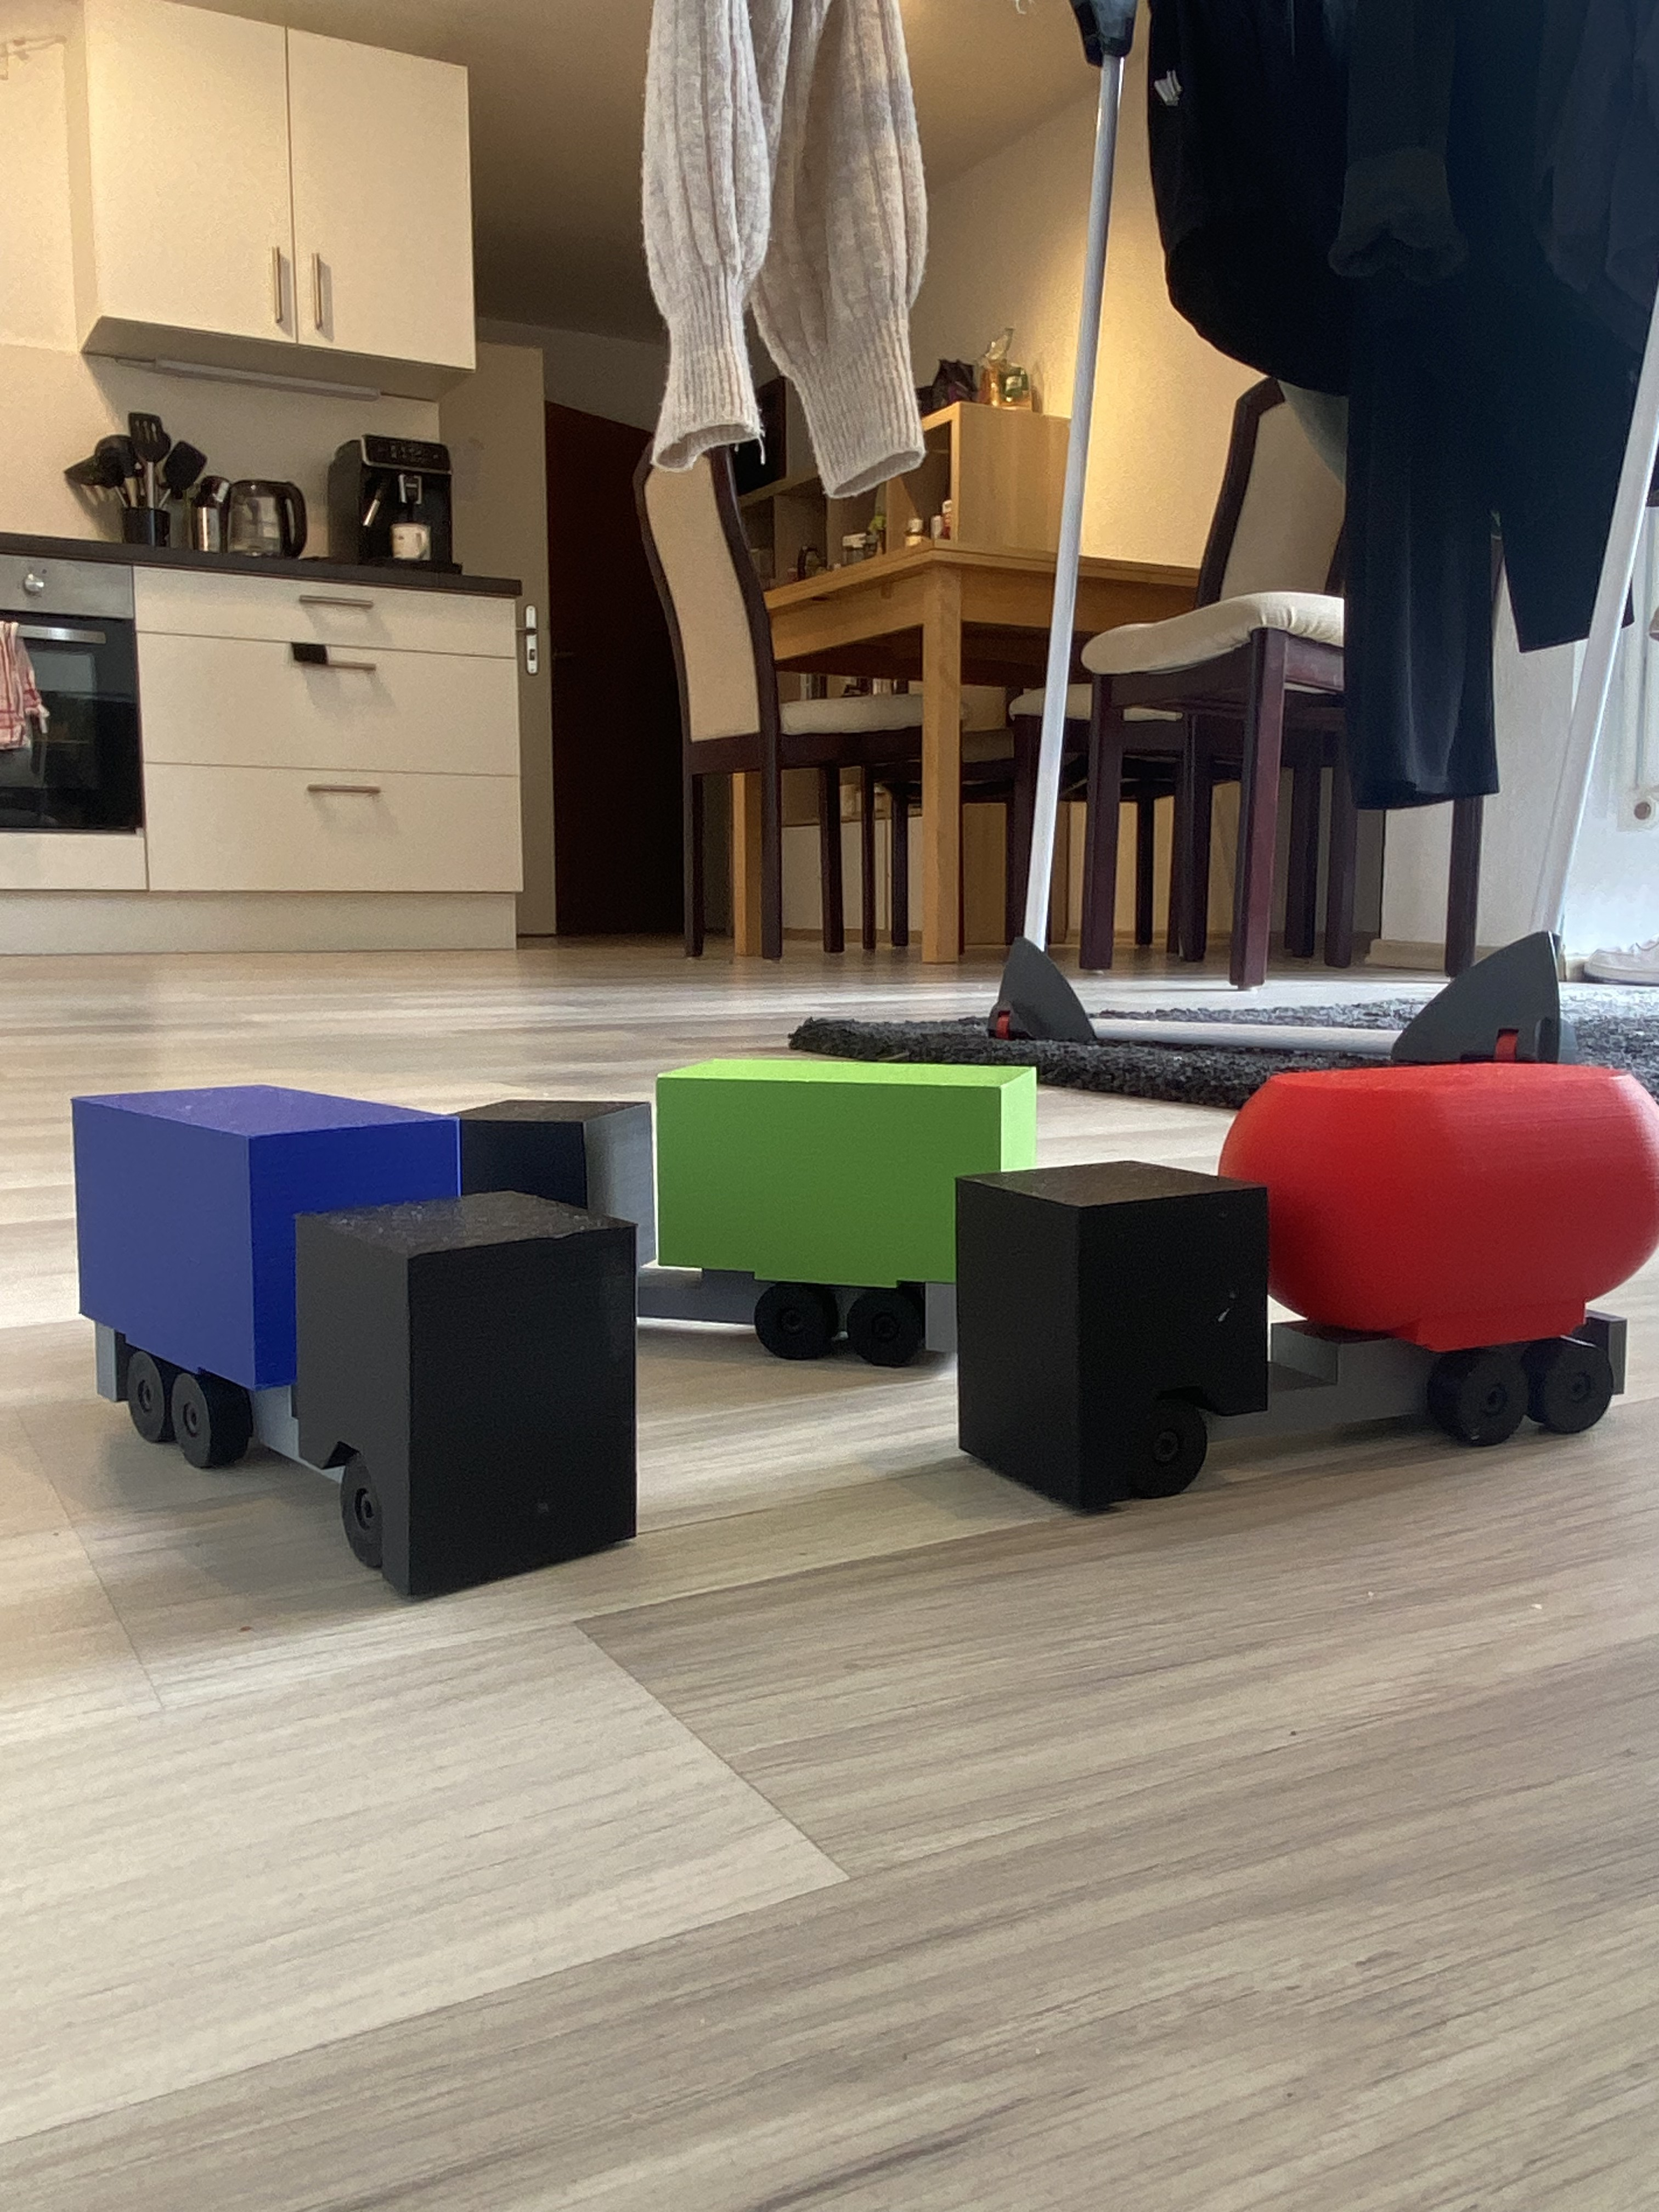blue_truck: (71, 1055, 606, 1655)
green_truck: (589, 918, 911, 1512)
red_truck: (1077, 916, 1525, 1629)
